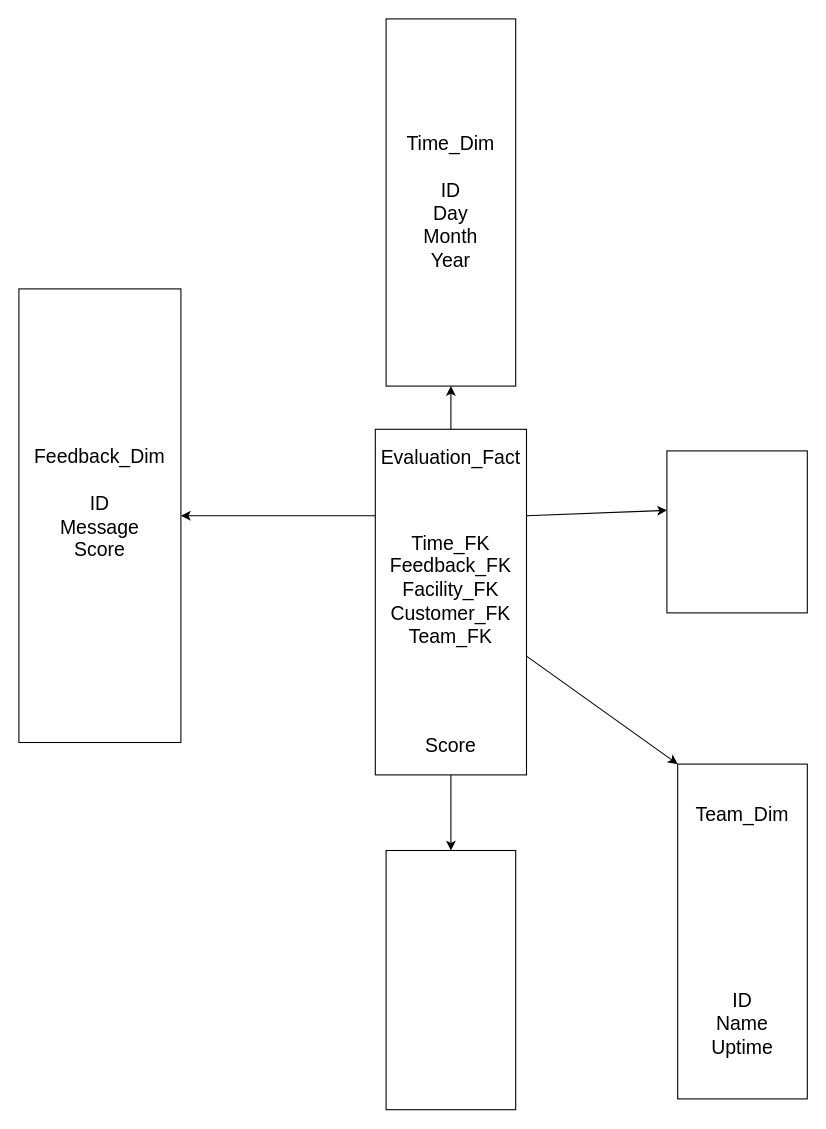
This 826x1129 diagram has some shape labels left out. Here are the shapes that lost their labels. From the top down, the centre of each, then its label:
(736,531): Facility_Dim ID Location Name EfficiencyScore
(450,979): Customer_Dim ID Name Surname Email Type
